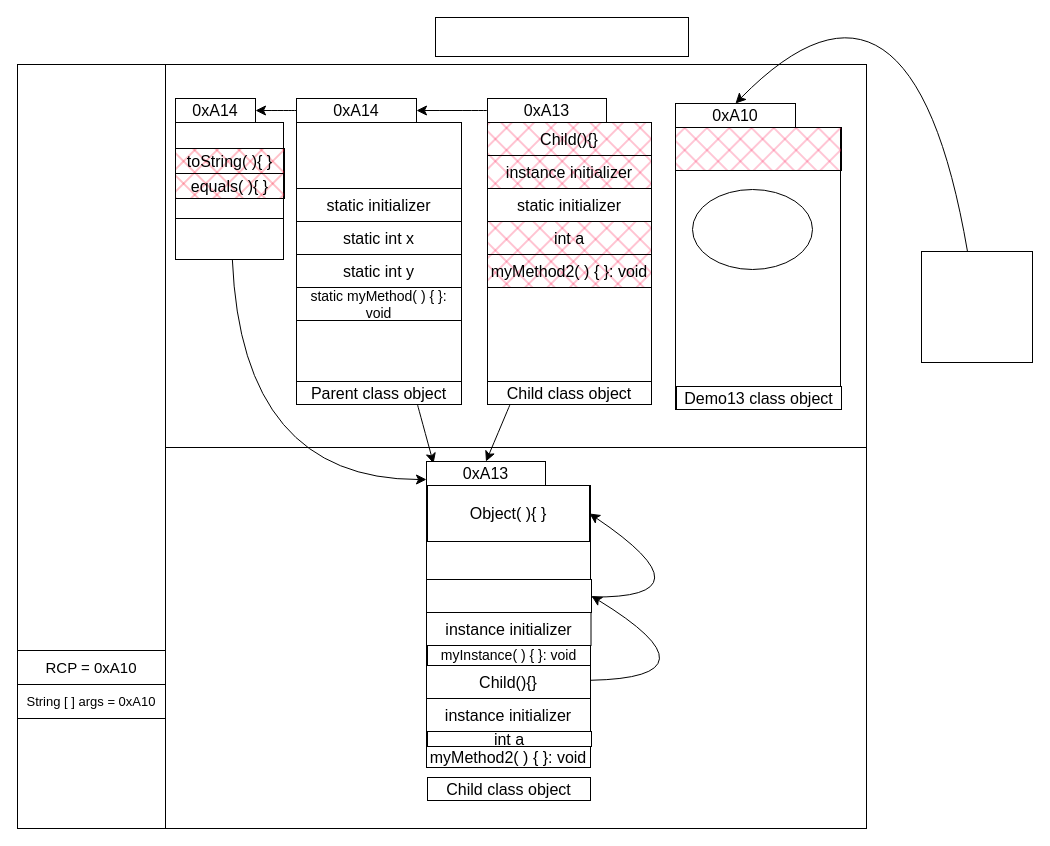
Some shapes in this 1050 by 846 pixel diagram are drawn without their labels. The shapes that lost their labels are listed below. From the top down, each one's centre as x and y in pixels, then its label:
the point at 561,36: Method Area
the point at 758,148: Demo13()
the point at 229,239: Object class object
the point at 752,229: PSVM
the point at 976,306: Demo13.class
the point at 509,595: Parent(){}
